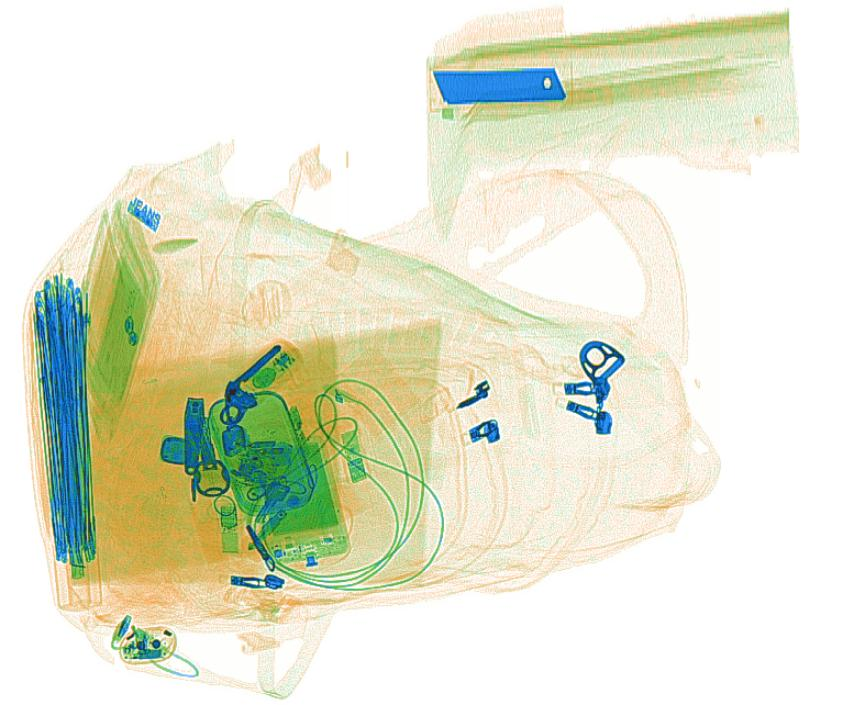USBFlashDisk: (336, 427, 371, 485), (217, 504, 244, 559)
knife: (431, 66, 569, 105)
